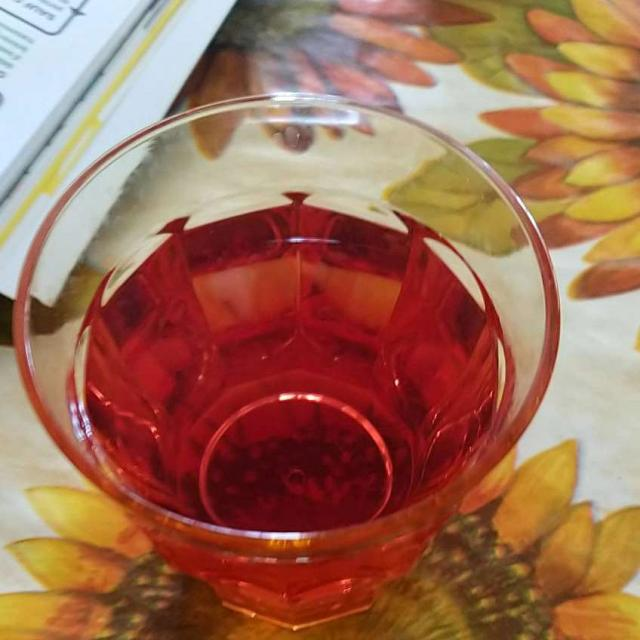syrup-diluted-ready-to-drink: (69, 203, 489, 619)
